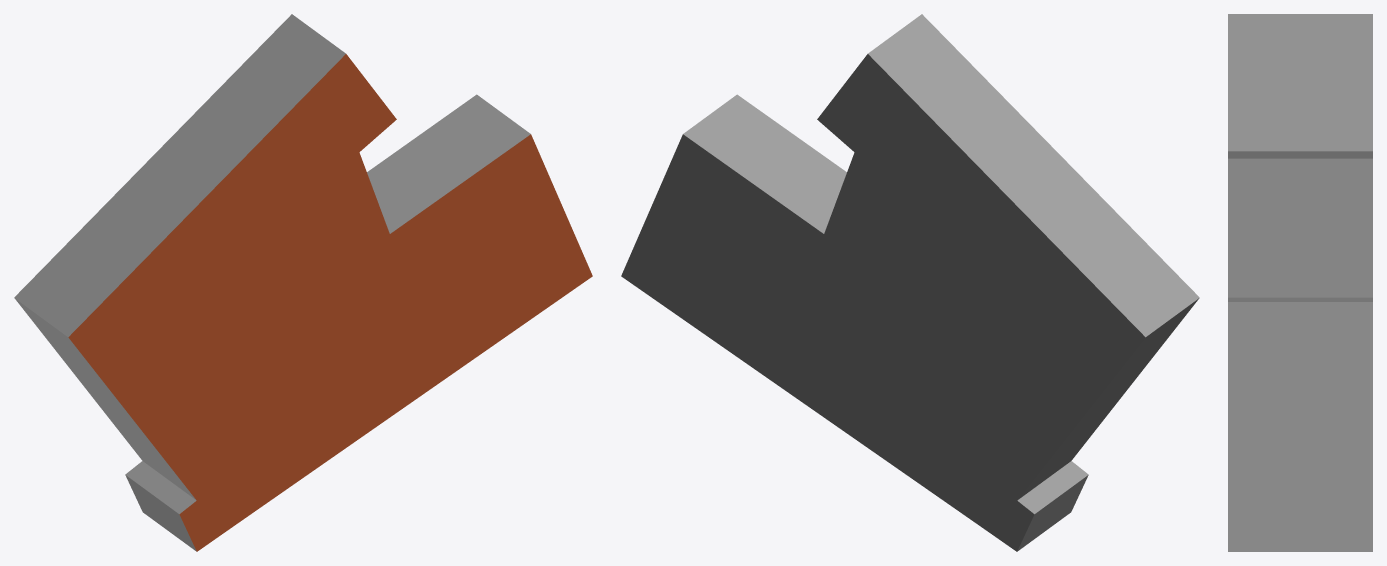
File: construction_3664_assumed_A_Casa_h6m.obj
The picture shows the model from 3 angles, left to right: view 1: azimuth 30°, elevation 25°; view 2: azimuth 150°, elevation 25°; view 3: azimuth 270°, elevation 25°; orthographic projection. The views are drawn at different scales.
Parts seen in each view (by area): view 1: construction_3664_assumed_A_Casa; view 2: construction_3664_assumed_A_Casa; view 3: construction_3664_assumed_A_Casa.
Part boxes in pixels (x1=…): construction_3664_assumed_A_Casa: x1=14, y1=14, x2=592, y2=551; construction_3664_assumed_A_Casa: x1=621, y1=14, x2=1199, y2=551; construction_3664_assumed_A_Casa: x1=1228, y1=14, x2=1372, y2=551.
Size of the model in its own units: 33.5 by 28.18 by 6.
